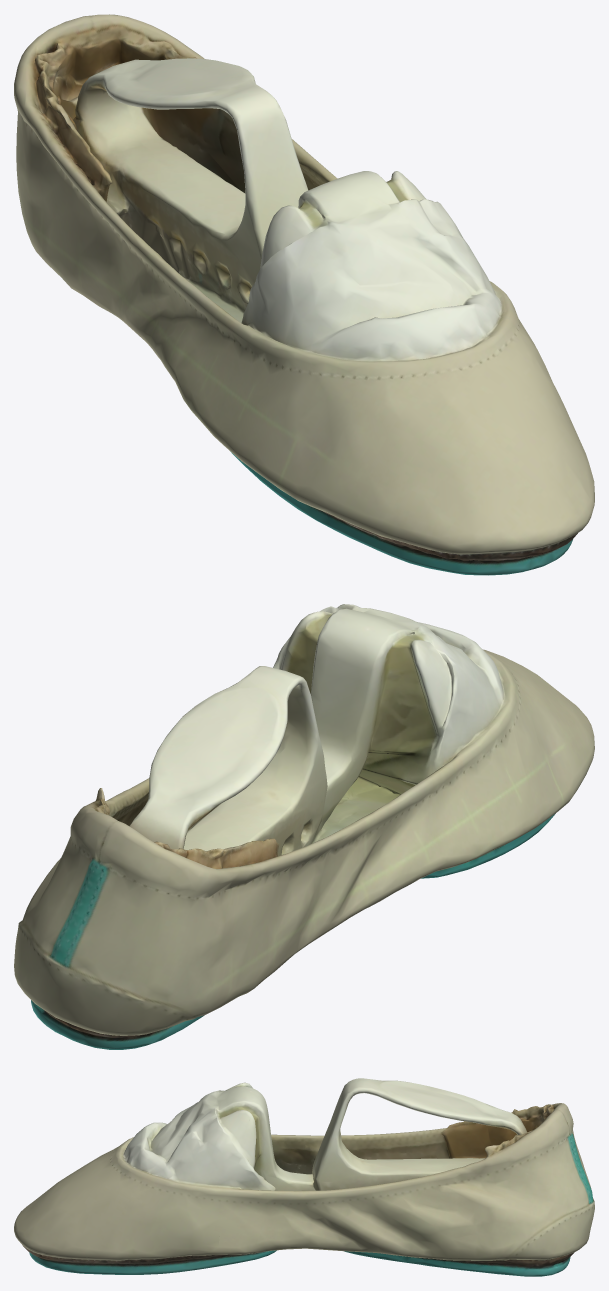
Rendered from Cream_Tieks_Italian_Leather_Ballet_Flats.glb.
3 views of the same model, one above another, from view 1: azimuth 30°, elevation 25°; view 2: azimuth 150°, elevation 25°; view 3: azimuth 270°, elevation 25° (orthographic). The views are drawn at different scales.
Parts seen in each view (by area): view 1: Cream_Tieks_Italian_Leather_Ballet_Flats; view 2: Cream_Tieks_Italian_Leather_Ballet_Flats; view 3: Cream_Tieks_Italian_Leather_Ballet_Flats.
Boxes of the visible parts, box(x1,y1,x2,y2) form: Cream_Tieks_Italian_Leather_Ballet_Flats: box(14, 14, 594, 575); Cream_Tieks_Italian_Leather_Ballet_Flats: box(14, 604, 594, 1049); Cream_Tieks_Italian_Leather_Ballet_Flats: box(14, 1078, 594, 1276).
Size of the model in its own units: 0.0836 by 0.0798 by 0.2456.
Materials: 1 (1 with a texture image).
